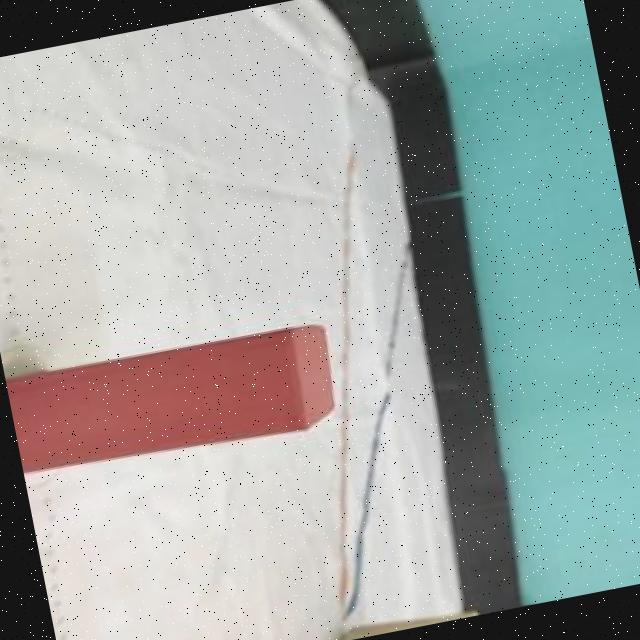redbox: (6, 321, 343, 480)
